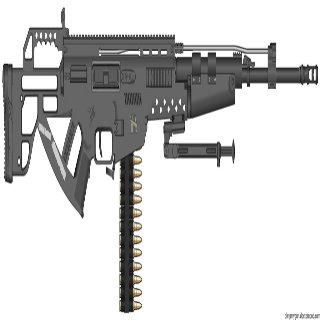rifle: (2, 4, 319, 218)
